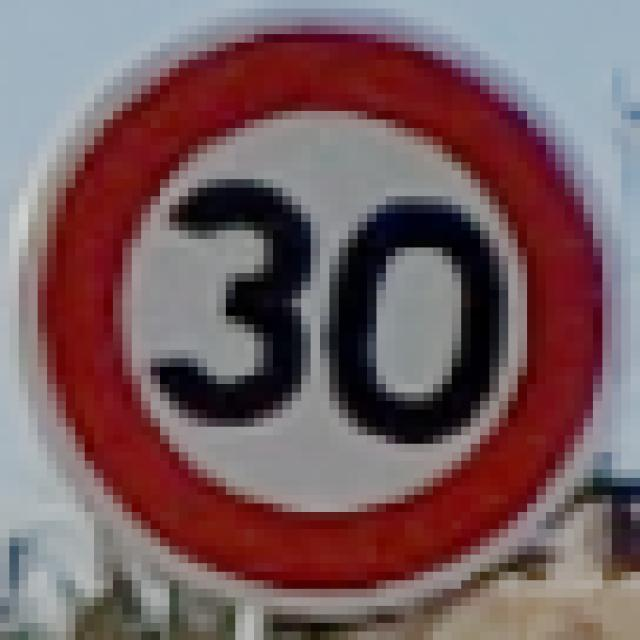speed_30: (0, 0, 640, 630)
